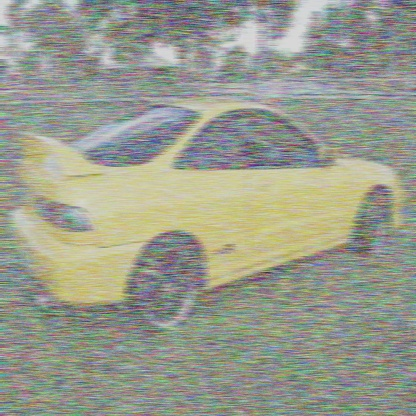Vehicle: (9, 95, 404, 336)
